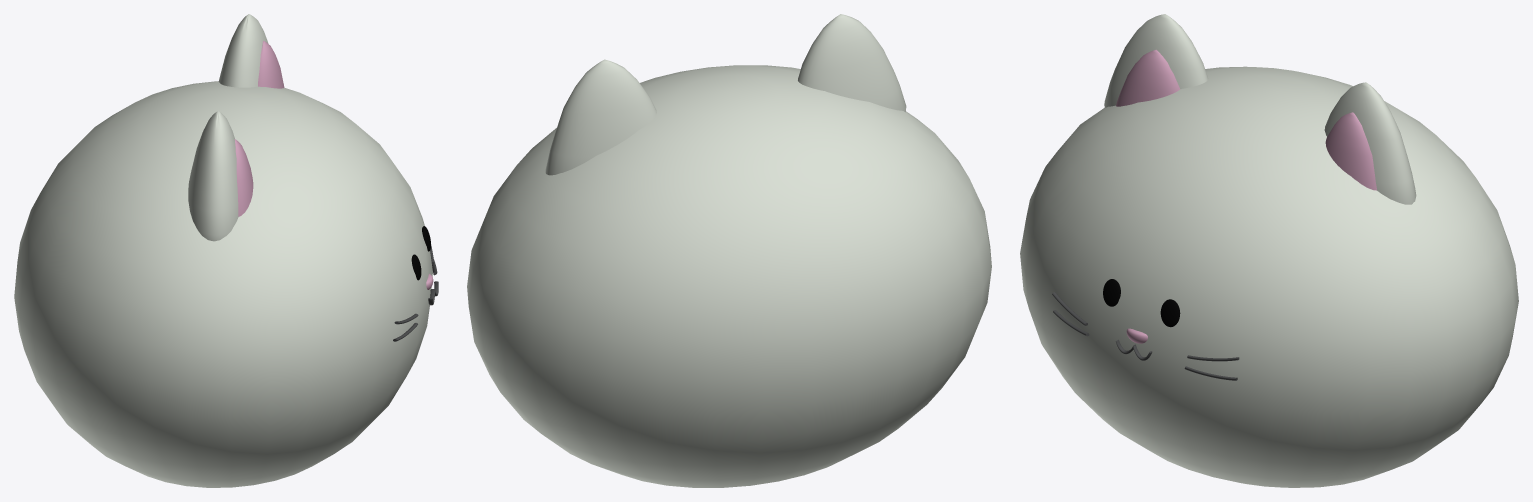
File: haru.gltf
3 renders of one model, left to right at view 1: azimuth 30°, elevation 25°; view 2: azimuth 150°, elevation 25°; view 3: azimuth 270°, elevation 25°, orthographic. The views are drawn at different scales.
Parts seen in each view (by area): view 1: Sphere.021; view 2: Sphere.021; view 3: Sphere.021.
Part boxes in pixels (x1,y1,x2,y2): Sphere.021: (14, 14, 433, 487); Sphere.021: (467, 14, 991, 487); Sphere.021: (1020, 14, 1518, 487).
Bounding box in the file's own units: 2.06 × 2.01 × 2.16.
